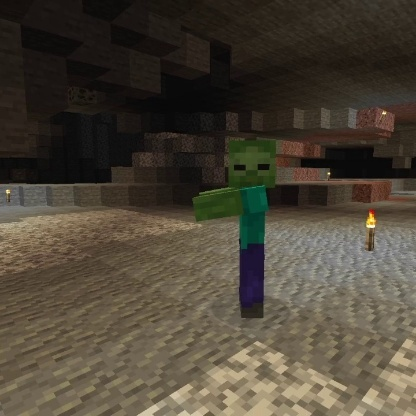zombie: (188, 136, 281, 322)
